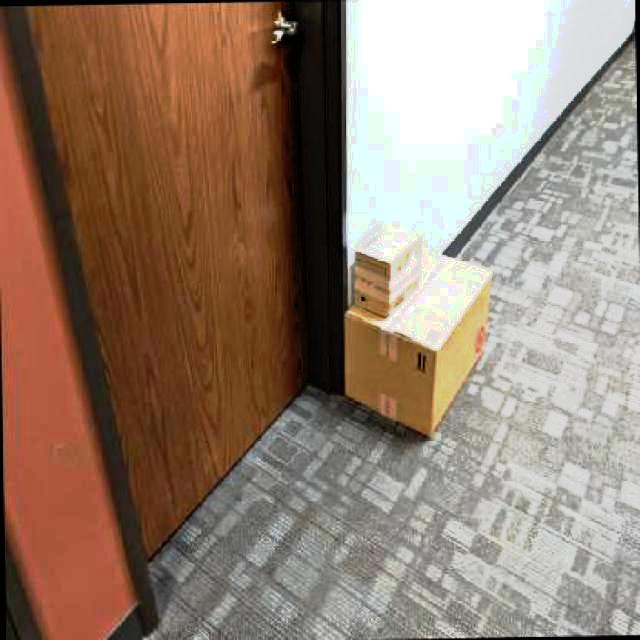Box: (338, 242, 500, 442), (346, 218, 428, 318)
